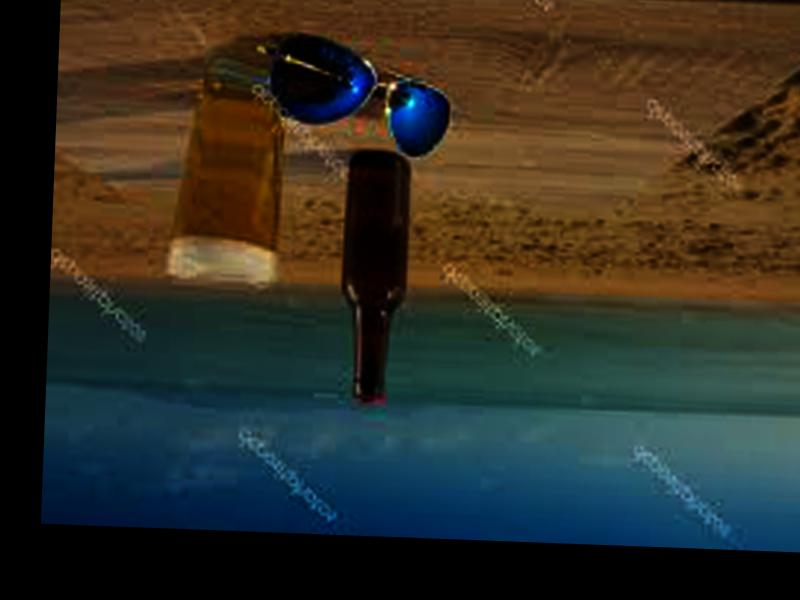Beer: (338, 153, 411, 405)
